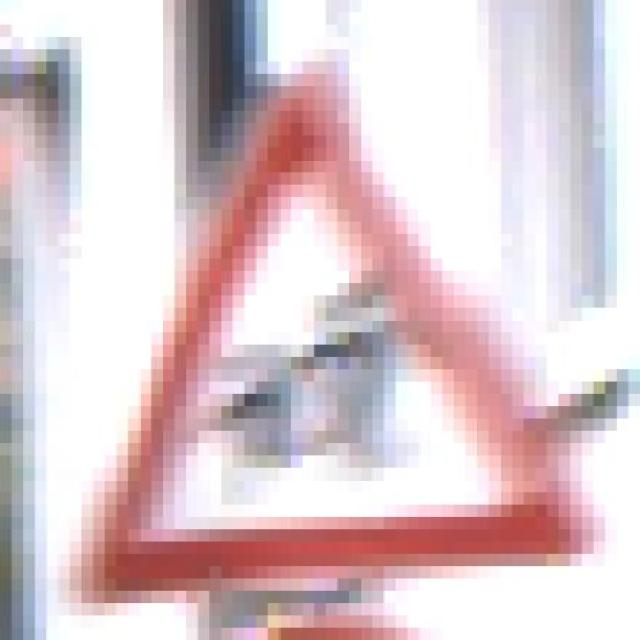Beware of children: (81, 49, 558, 591)
